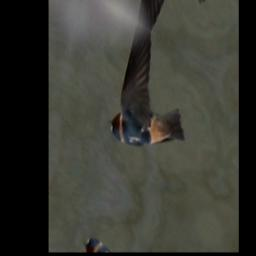Swallow: (105, 19, 201, 183)
